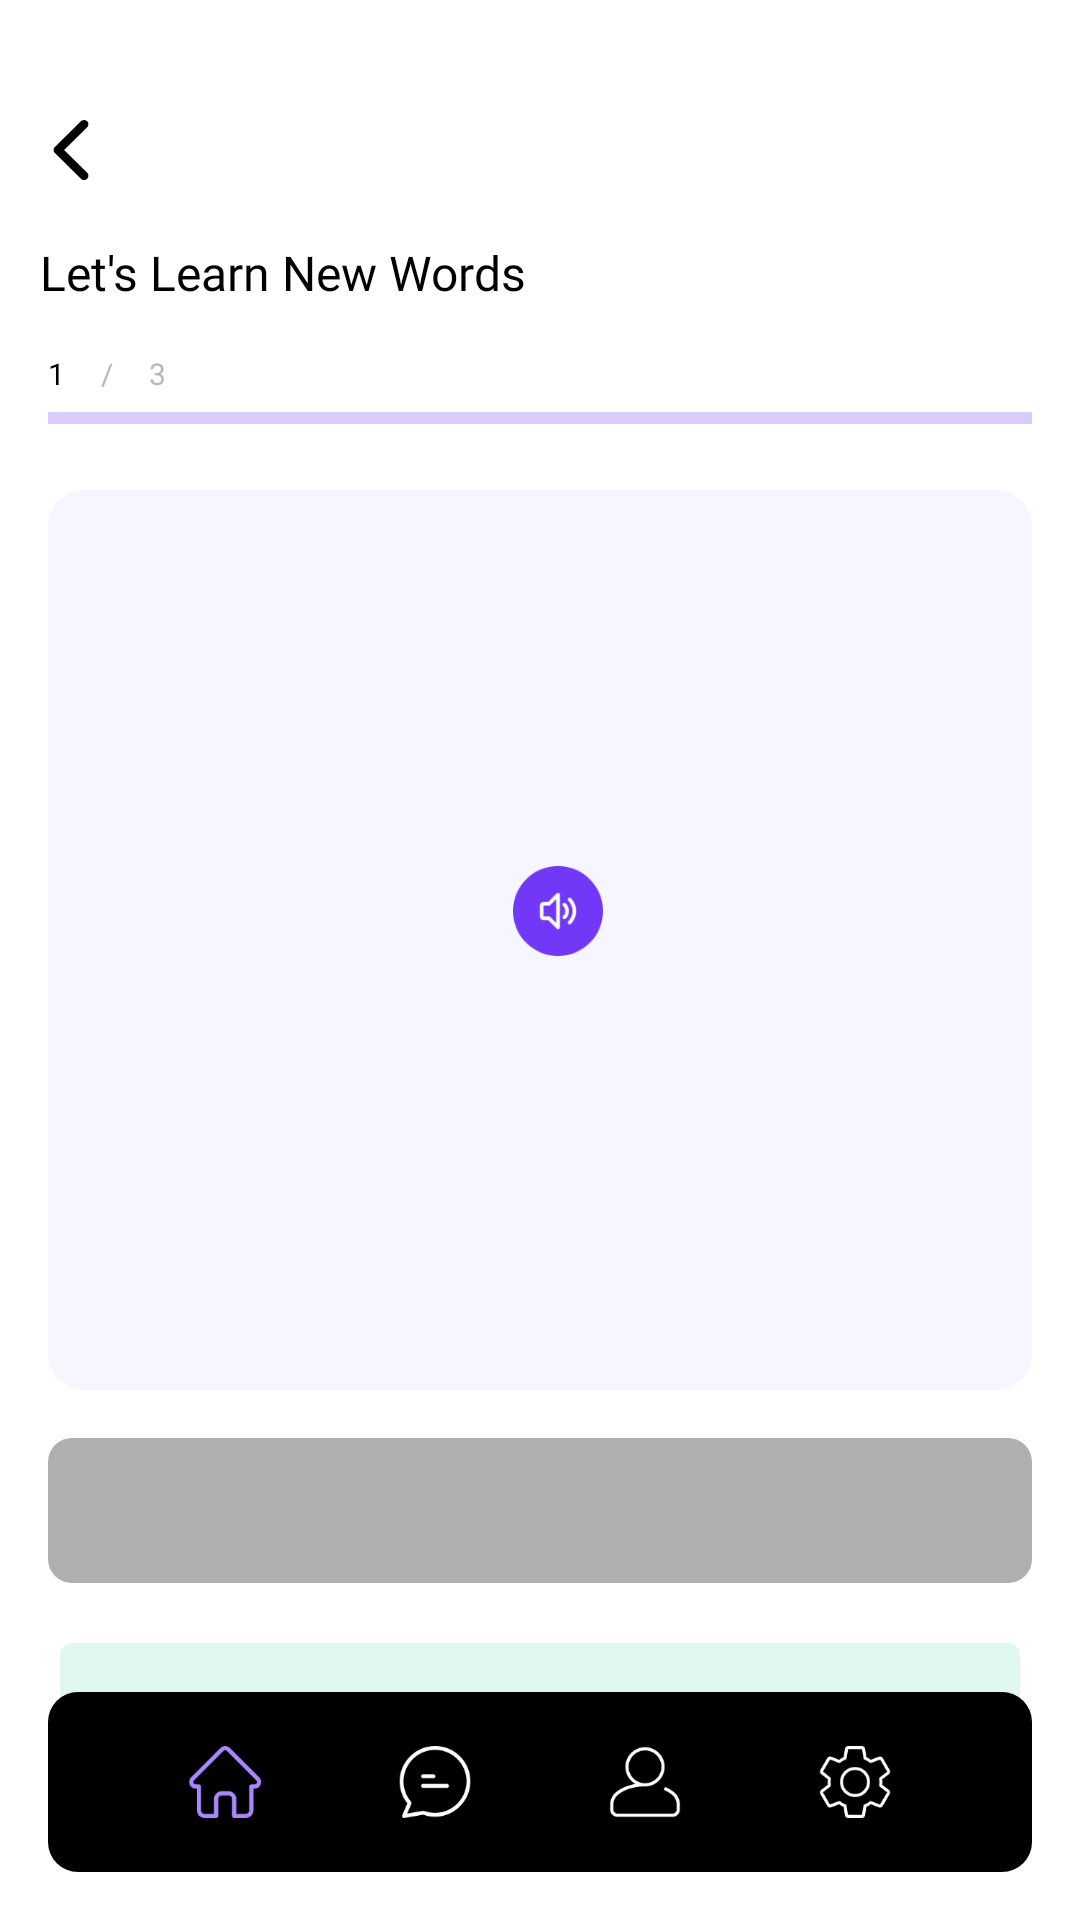

Icon bounding boxes for this 1080w x 1920h phone screenshot, format (x1=x1, y1=y1, x2=x2, y2=y2):
backarrowblack: (x1=53, y1=120, x2=89, y2=180)
chatw: (x1=399, y1=1746, x2=471, y2=1818)
homep: (x1=189, y1=1746, x2=261, y2=1818)
profilew: (x1=610, y1=1747, x2=680, y2=1817)
settingsw: (x1=819, y1=1746, x2=891, y2=1818)
soundbtnp: (x1=513, y1=866, x2=603, y2=956)
